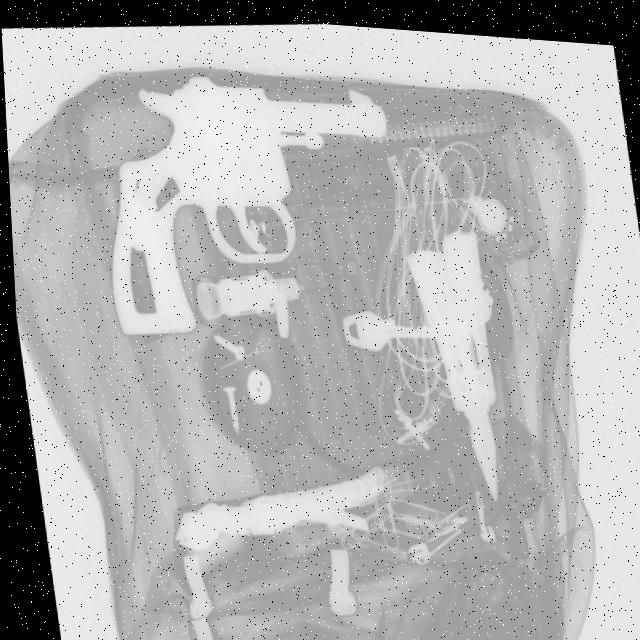pistol: (80, 49, 411, 349)
